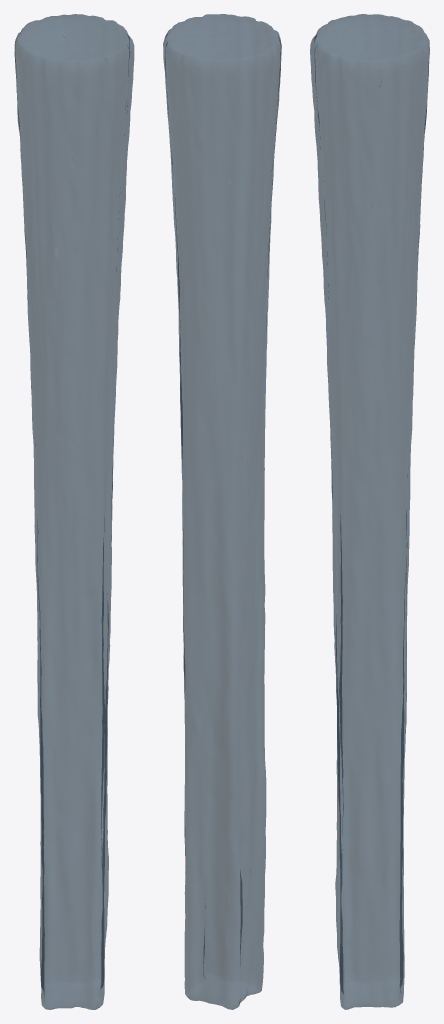
Rendered from water_6.dae.
3 renders of one model, left to right at view 1: azimuth 90°, elevation 25°; view 2: azimuth 150°, elevation 25°; view 3: azimuth 270°, elevation 25°, orthographic.
Visible parts, largest first — view 1: Water_stream_001; view 2: Water_stream_001; view 3: Water_stream_001.
Part boxes in pixels (box(x1,y1,x2,y2)): Water_stream_001: box(14, 14, 134, 1009); Water_stream_001: box(163, 14, 281, 1009); Water_stream_001: box(310, 14, 429, 1009).
Bounding box in the file's own units: 0.0639 × 0.0641 × 0.5661.
